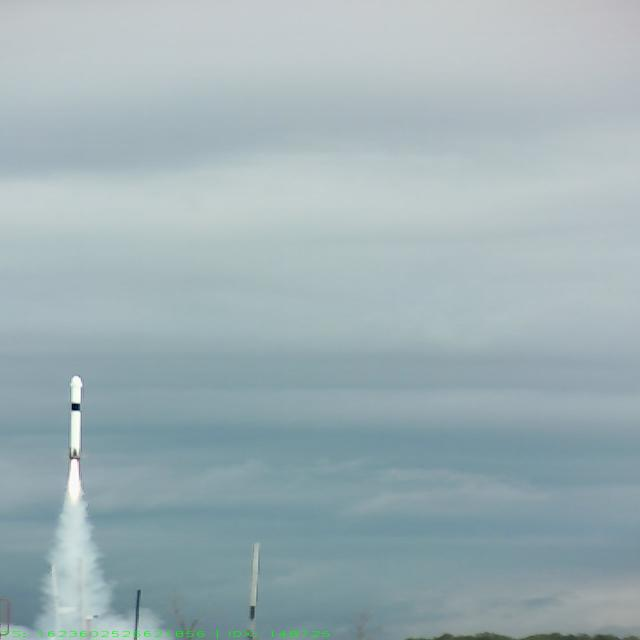Rocket: (66, 374, 82, 460)
